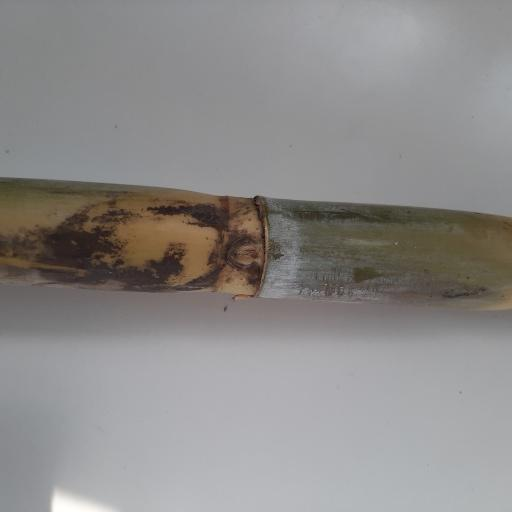Bud: (226, 239, 260, 268)
